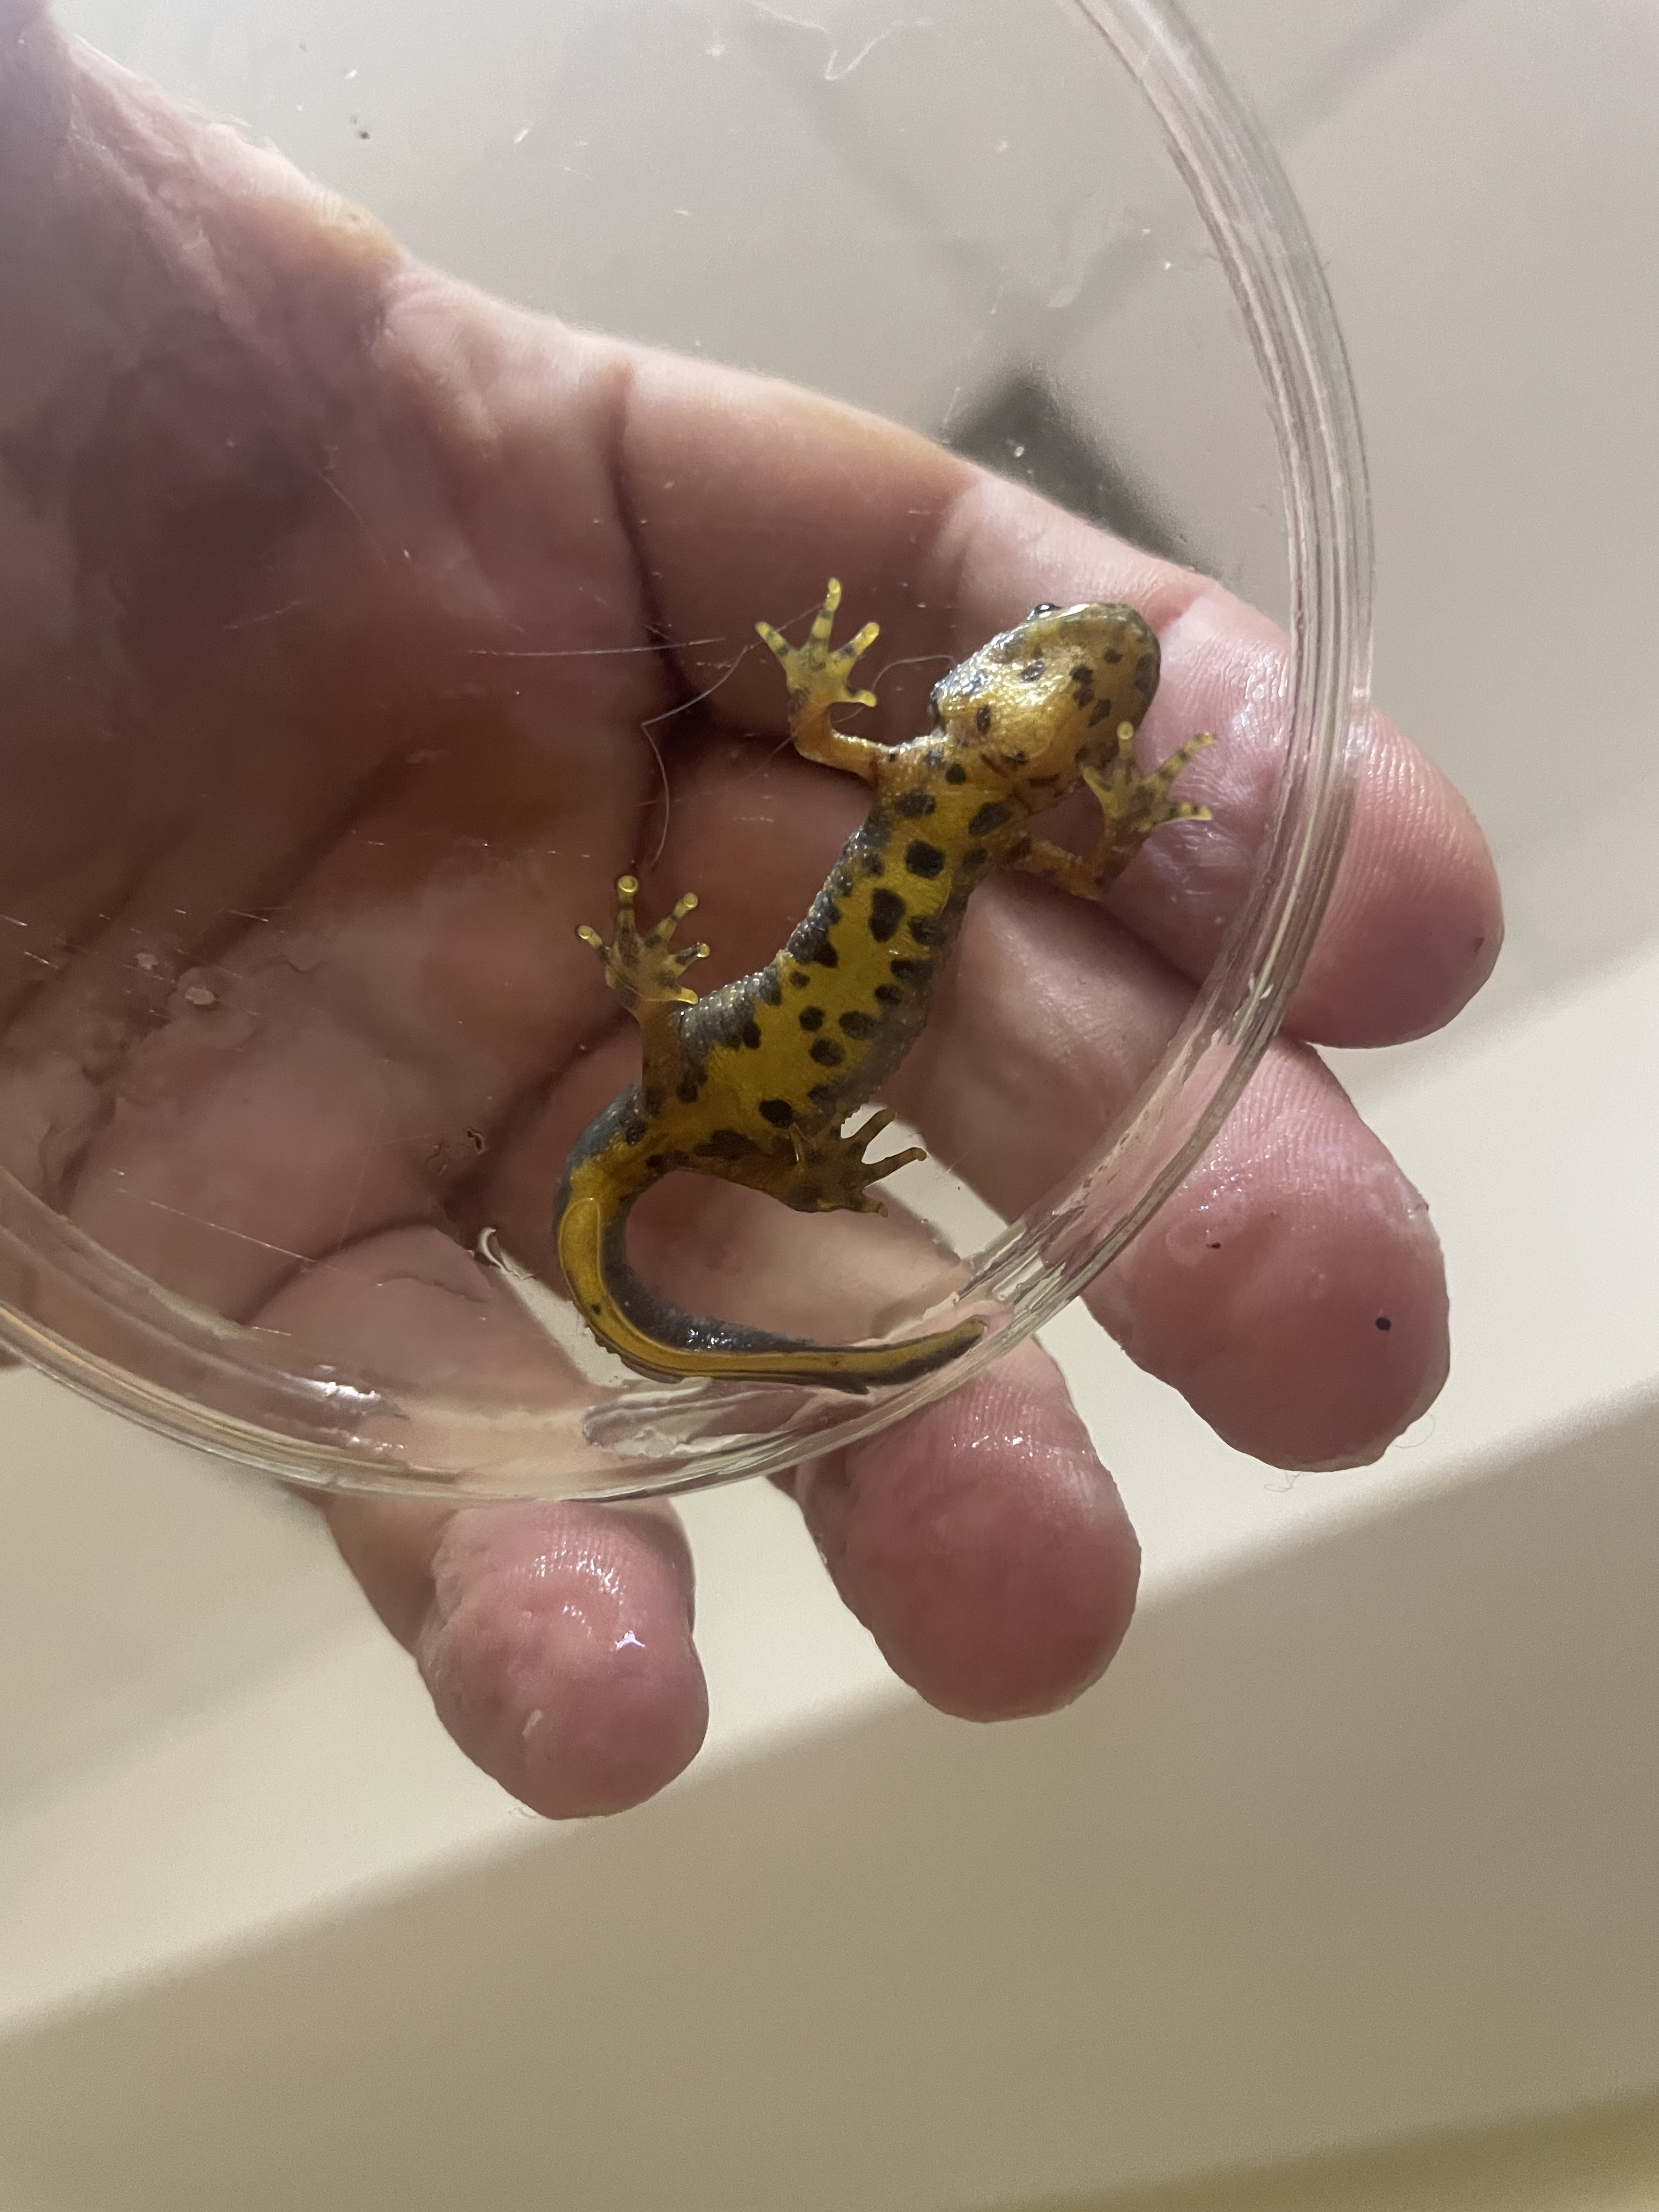Karelin_newt: (671, 786, 999, 1155)
